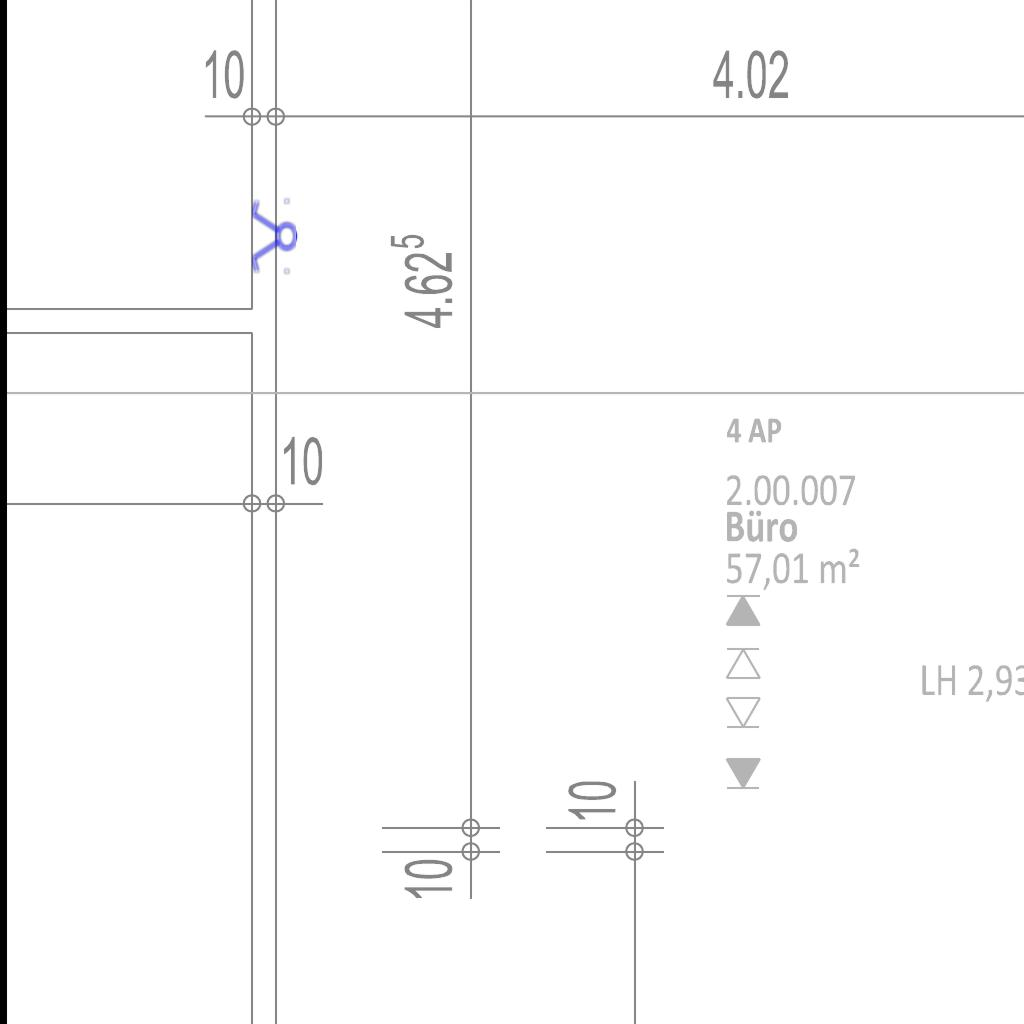Serienschalter: (250, 195, 298, 279)
